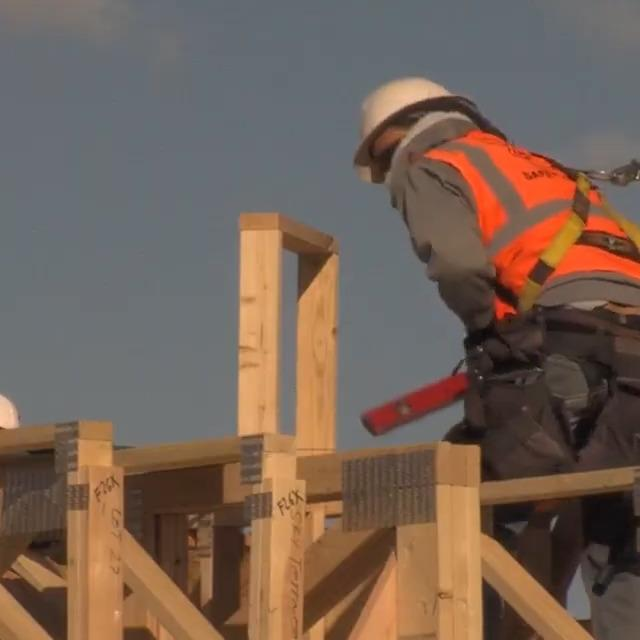Hardhat: (350, 74, 479, 184)
NO-Hardhat: (0, 388, 19, 433)
Person: (351, 74, 640, 640)
Safety Vest: (419, 127, 640, 315)
